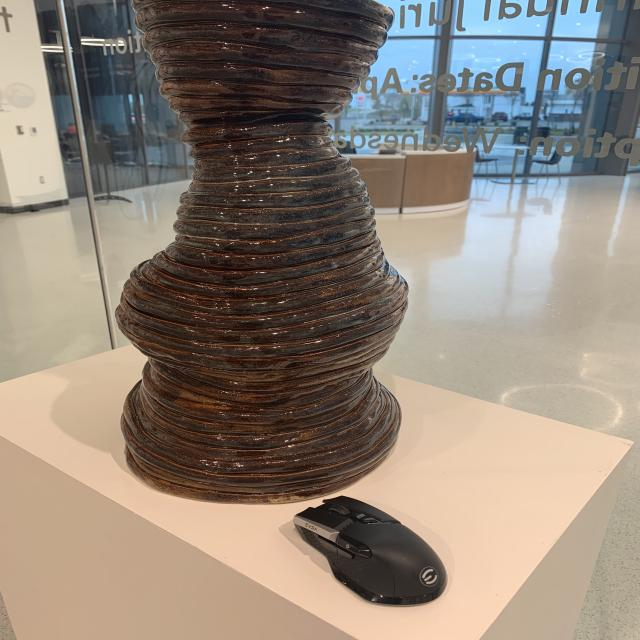Mouse: (284, 495, 453, 610)
